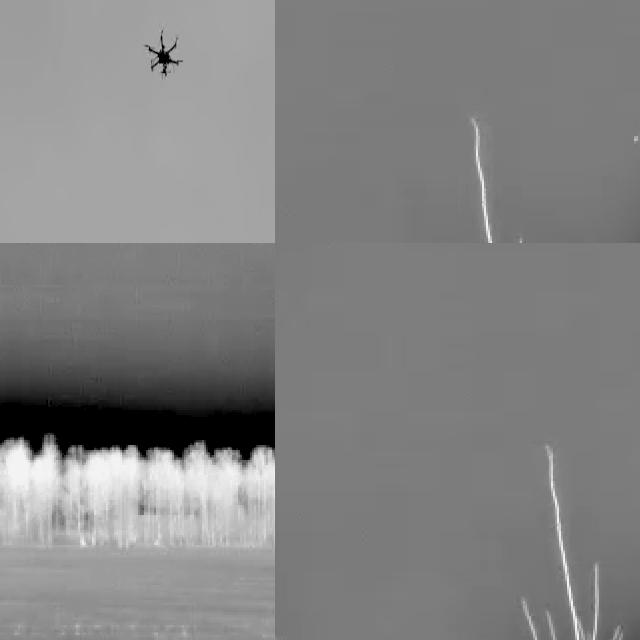0: (618, 125, 640, 155)
1: (237, 243, 263, 250)
drone: (143, 30, 184, 83)
